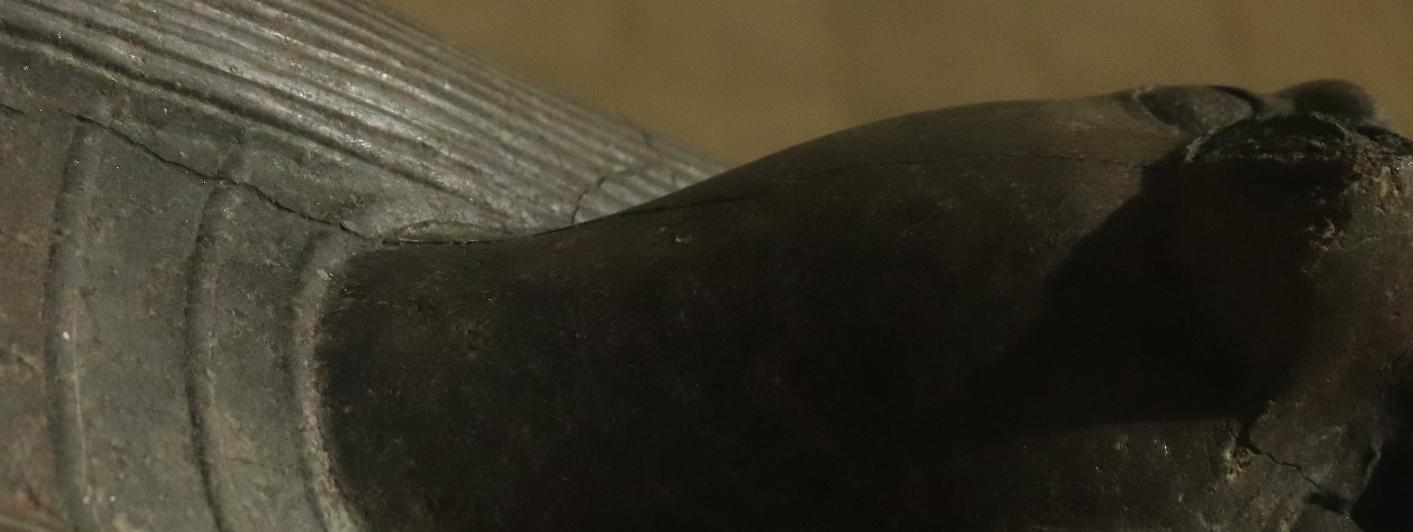Ra_Horakhty: (0, 0, 853, 532)
